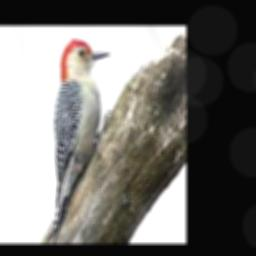Woodpecker: (43, 39, 110, 243)
